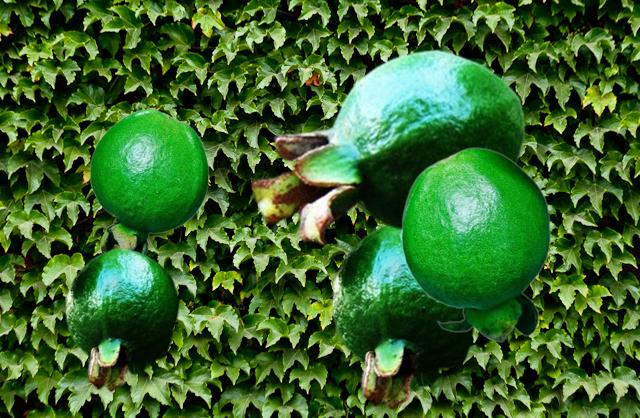guava: (250, 48, 525, 246), (400, 147, 550, 341), (331, 225, 476, 409), (89, 108, 208, 253), (65, 247, 179, 391)
